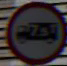Heavy Vehicles: (5, 3, 65, 59)
